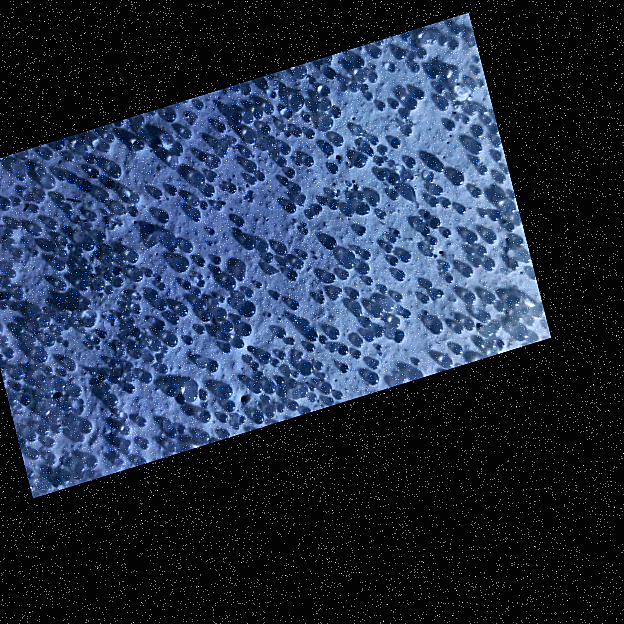GrassBeadSeg: (40, 105, 476, 494), (53, 39, 459, 432), (45, 48, 479, 374), (47, 89, 419, 463), (68, 126, 483, 405), (54, 98, 448, 391), (42, 41, 451, 323), (45, 108, 409, 424), (76, 161, 444, 473), (39, 47, 426, 326), (70, 84, 393, 362), (125, 120, 449, 392), (16, 189, 480, 378), (81, 209, 477, 427), (80, 115, 470, 335), (8, 83, 445, 278), (107, 172, 465, 405), (31, 199, 339, 460), (202, 84, 410, 442), (92, 171, 341, 468), (87, 103, 289, 467), (127, 137, 401, 383), (140, 189, 399, 447), (62, 85, 443, 249), (106, 97, 417, 294), (200, 187, 481, 400), (236, 84, 513, 296), (34, 155, 314, 362), (32, 225, 463, 354), (69, 99, 409, 262), (21, 109, 203, 405), (163, 145, 381, 385), (122, 251, 406, 434), (227, 98, 449, 325), (94, 167, 373, 346), (47, 259, 310, 447), (141, 134, 336, 383), (166, 108, 336, 390), (295, 64, 473, 330), (63, 202, 380, 350), (220, 141, 480, 320), (47, 148, 203, 440), (293, 67, 440, 375), (110, 227, 425, 367), (111, 167, 295, 406), (191, 100, 414, 293), (289, 210, 499, 410), (70, 250, 356, 396), (2, 192, 437, 287), (18, 249, 337, 378), (133, 222, 515, 329), (15, 220, 176, 468), (254, 258, 495, 423), (40, 254, 429, 355), (93, 293, 493, 390), (89, 213, 276, 417), (57, 318, 400, 429), (252, 205, 463, 384), (17, 219, 187, 435), (96, 143, 290, 322), (46, 148, 375, 252), (273, 47, 382, 359), (237, 107, 398, 317), (32, 140, 144, 441), (1, 199, 325, 303), (159, 107, 341, 289), (245, 101, 386, 333), (6, 291, 476, 359), (38, 355, 452, 432), (13, 269, 312, 374), (97, 233, 264, 420), (93, 191, 393, 289), (214, 127, 412, 275), (145, 93, 304, 276), (79, 228, 215, 441), (121, 343, 383, 453), (201, 201, 432, 325), (259, 84, 400, 285), (43, 125, 488, 188), (215, 172, 401, 320), (78, 217, 440, 290), (285, 174, 414, 376), (131, 183, 353, 298), (91, 169, 371, 260), (0, 221, 129, 418), (202, 211, 386, 347), (102, 324, 462, 393), (6, 278, 364, 346), (184, 310, 428, 408), (249, 175, 397, 335), (109, 164, 233, 353), (116, 197, 439, 269), (85, 157, 302, 263), (311, 258, 481, 389), (198, 204, 466, 287), (127, 281, 261, 447), (325, 231, 497, 357), (342, 64, 426, 315), (371, 120, 455, 369), (250, 176, 343, 400), (59, 149, 252, 256), (59, 280, 191, 435), (59, 279, 397, 339), (290, 202, 443, 333), (219, 237, 337, 398), (63, 295, 225, 410), (91, 124, 305, 211), (217, 202, 402, 301), (164, 270, 399, 346), (329, 89, 425, 272), (81, 320, 233, 432), (90, 198, 452, 245), (277, 258, 492, 337), (208, 157, 287, 371), (242, 84, 319, 302), (264, 143, 328, 405), (467, 106, 538, 342), (296, 127, 383, 317), (14, 265, 467, 300), (197, 256, 394, 336), (238, 274, 453, 347), (321, 144, 383, 394), (114, 276, 222, 419), (128, 317, 324, 395), (83, 258, 296, 325), (323, 72, 373, 342), (303, 47, 375, 234), (236, 157, 416, 227), (52, 153, 96, 438), (134, 103, 274, 192), (208, 155, 291, 304), (97, 173, 397, 214), (58, 285, 125, 466), (304, 156, 451, 237), (126, 292, 472, 326), (240, 107, 339, 225), (221, 243, 286, 422), (130, 154, 367, 203), (0, 252, 126, 344), (261, 123, 310, 346), (143, 305, 236, 421), (232, 66, 371, 143), (15, 150, 371, 180), (158, 300, 299, 374), (277, 330, 404, 412), (49, 123, 226, 181), (68, 360, 242, 418), (12, 304, 142, 380), (156, 241, 210, 422), (11, 228, 163, 290), (144, 185, 194, 373), (197, 157, 283, 266), (223, 123, 276, 299), (429, 68, 464, 330), (68, 258, 154, 363), (112, 360, 298, 408), (245, 149, 286, 360), (34, 298, 90, 449), (200, 261, 367, 311), (5, 172, 68, 302), (407, 157, 474, 276), (114, 202, 223, 274), (57, 252, 274, 288), (155, 136, 267, 205), (55, 326, 171, 392), (127, 171, 210, 262), (352, 258, 476, 318), (197, 171, 370, 214), (54, 99, 204, 148), (242, 261, 371, 317), (323, 48, 405, 136), (257, 128, 316, 247), (198, 241, 324, 295), (6, 192, 381, 210), (157, 241, 210, 367), (129, 206, 190, 315), (330, 72, 378, 209), (39, 203, 67, 435), (222, 184, 308, 259), (31, 204, 114, 281), (183, 161, 249, 252), (99, 292, 212, 345), (55, 259, 450, 274), (272, 129, 297, 366), (292, 269, 349, 372), (468, 245, 527, 341), (12, 220, 67, 322), (27, 415, 246, 440), (168, 295, 222, 396), (50, 328, 107, 423), (138, 360, 218, 427), (151, 301, 256, 352), (309, 269, 349, 402), (425, 227, 495, 303), (383, 210, 441, 298), (74, 214, 124, 316), (144, 336, 189, 448), (87, 209, 315, 231), (112, 163, 457, 177), (65, 240, 100, 374), (169, 197, 253, 252), (253, 344, 347, 393), (199, 325, 242, 430), (133, 84, 236, 127), (194, 256, 269, 312), (345, 102, 381, 217), (37, 189, 51, 484), (182, 128, 334, 155), (224, 161, 257, 283), (273, 149, 307, 266), (15, 148, 49, 258), (424, 156, 480, 219), (48, 329, 318, 342), (403, 31, 481, 76), (323, 191, 392, 241), (203, 185, 236, 289), (279, 325, 383, 357), (276, 291, 368, 327), (244, 64, 299, 124), (357, 227, 380, 368), (114, 270, 406, 281), (248, 345, 326, 386), (320, 63, 415, 96), (38, 134, 110, 177), (15, 326, 50, 410), (153, 188, 168, 369), (23, 151, 92, 190), (84, 310, 200, 333), (313, 57, 373, 101), (89, 302, 144, 350), (281, 141, 482, 154), (229, 184, 347, 206), (383, 298, 421, 366), (413, 328, 491, 361), (211, 289, 339, 309), (342, 251, 451, 272), (326, 70, 367, 125), (482, 209, 519, 269), (235, 111, 248, 281), (347, 156, 411, 189), (352, 256, 399, 300), (270, 68, 334, 99), (231, 102, 319, 124), (16, 325, 41, 402), (247, 355, 303, 389), (8, 238, 113, 256), (497, 236, 524, 305), (257, 77, 331, 102), (407, 24, 457, 61), (199, 136, 276, 160), (236, 99, 332, 118), (258, 204, 296, 251), (467, 243, 491, 316), (353, 225, 366, 358), (109, 133, 184, 156), (49, 242, 125, 264), (19, 374, 42, 446), (110, 352, 165, 381), (162, 213, 189, 271), (251, 315, 295, 350), (307, 342, 457, 352), (378, 170, 443, 193), (37, 225, 94, 251), (120, 413, 178, 438), (117, 321, 158, 356), (156, 210, 170, 307), (191, 170, 217, 221), (156, 185, 302, 194), (406, 218, 435, 262), (170, 386, 198, 430), (340, 316, 372, 354), (118, 289, 158, 318), (415, 35, 446, 72), (313, 191, 365, 213), (498, 316, 533, 348), (21, 144, 89, 160), (482, 106, 501, 162), (355, 230, 401, 253), (1, 238, 16, 308), (260, 351, 291, 384), (484, 312, 535, 331), (16, 403, 62, 423), (237, 291, 272, 317), (402, 24, 464, 38), (319, 330, 375, 344), (257, 350, 272, 402), (37, 153, 75, 173), (359, 48, 398, 67), (330, 68, 358, 92), (480, 200, 517, 218), (306, 129, 344, 146), (234, 314, 297, 324), (139, 332, 169, 353), (31, 189, 65, 207), (481, 299, 506, 322), (7, 197, 22, 235), (159, 298, 200, 311), (58, 338, 101, 350), (75, 247, 94, 274), (310, 78, 359, 88), (56, 139, 86, 155), (86, 256, 114, 273), (191, 172, 216, 191), (274, 121, 287, 157), (498, 173, 510, 211), (469, 318, 484, 348), (203, 137, 221, 161), (493, 125, 502, 173), (454, 106, 484, 120), (321, 192, 356, 204), (150, 137, 182, 150), (40, 375, 50, 415), (281, 109, 305, 124), (290, 379, 309, 396), (379, 285, 394, 306), (219, 148, 227, 185), (303, 105, 318, 122), (118, 339, 138, 351), (115, 368, 133, 381), (475, 67, 486, 88), (483, 115, 494, 136), (159, 319, 166, 352), (40, 392, 55, 407), (127, 350, 141, 365), (124, 362, 135, 380), (323, 272, 335, 283), (293, 258, 303, 268), (510, 297, 520, 307), (47, 386, 54, 400), (379, 144, 387, 155), (89, 211, 97, 221)
